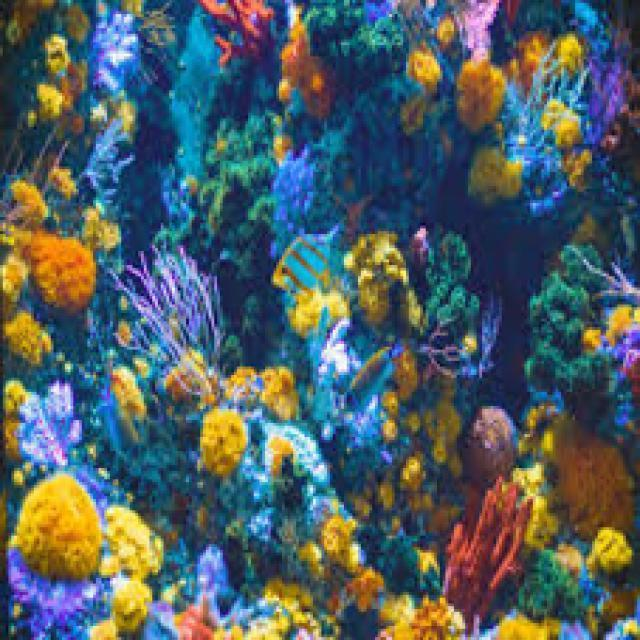Healthy: (534, 248, 606, 417), (447, 485, 532, 615), (550, 422, 636, 534), (21, 482, 101, 577), (347, 235, 423, 327), (5, 581, 104, 640), (101, 506, 169, 578), (280, 25, 335, 112), (430, 245, 485, 332), (31, 235, 94, 310), (23, 381, 78, 466), (208, 2, 273, 60), (93, 14, 137, 93), (273, 149, 309, 245), (199, 407, 249, 476), (459, 62, 506, 129), (469, 154, 523, 204), (168, 355, 223, 403), (7, 314, 53, 367), (111, 580, 153, 638), (110, 368, 153, 424), (520, 469, 553, 541), (1, 230, 31, 309), (262, 367, 304, 422), (291, 294, 345, 333), (8, 183, 54, 227), (224, 617, 310, 640), (81, 209, 126, 249), (410, 596, 450, 640), (592, 531, 633, 573), (408, 45, 441, 97), (501, 612, 559, 640), (547, 101, 583, 144), (4, 380, 22, 462), (379, 593, 410, 640), (351, 569, 386, 610), (264, 584, 313, 613), (433, 405, 455, 466), (606, 305, 640, 344), (293, 541, 326, 581), (553, 35, 584, 76), (323, 522, 352, 565), (566, 149, 591, 196), (399, 455, 429, 493), (270, 435, 295, 480), (178, 606, 213, 638), (43, 35, 70, 75), (113, 99, 142, 136), (396, 356, 418, 404), (34, 86, 64, 117), (402, 101, 427, 136), (114, 323, 142, 348), (266, 138, 293, 163), (438, 16, 461, 45), (625, 361, 640, 401), (581, 326, 602, 351), (382, 418, 400, 444), (379, 391, 398, 414), (407, 413, 422, 435)
